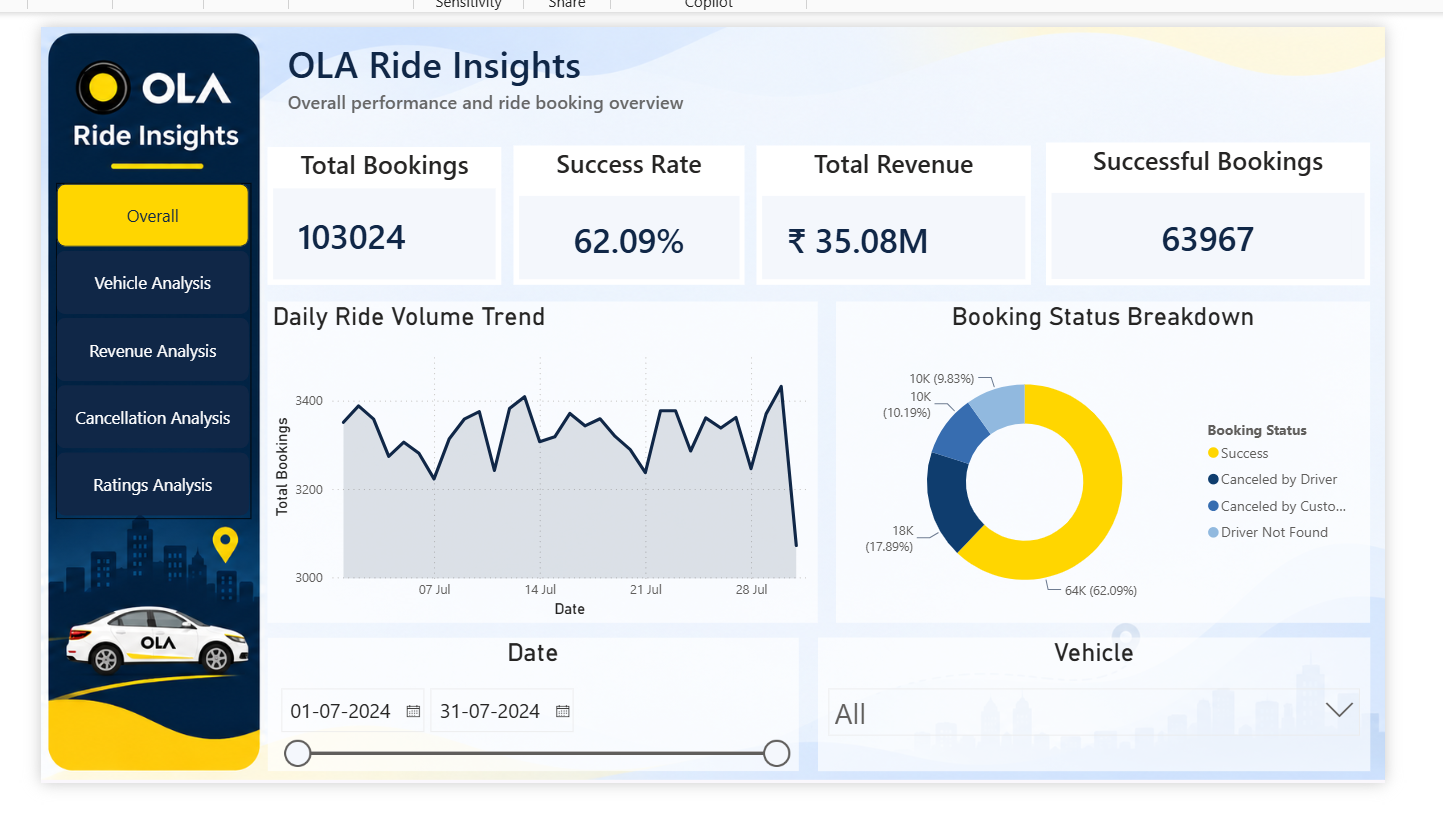

The dashboard page shown, as its layout file describes it:
{"tool":"powerbi","page":{"name":"Overall","canvas":[1280,720],"ordinal":0},"visuals":[{"type":"cardVisual","title":"Total Bookings","fields":{"Data":["ola_ride_insights cleaned_ola_data.Total Bookings"]},"box":[215.7,114.3,222.9,131.4],"z":0},{"type":"cardVisual","title":"Successful Bookings","fields":{"Data":["cleaned_ola_data.Successful Bookings"]},"box":[957.1,110,308.6,135.7],"z":1000},{"type":"cardVisual","title":"Total Revenue","fields":{"Data":["cleaned_ola_data.Total Revenue"]},"box":[681.4,112.9,261.4,132.9],"z":2000},{"type":"cardVisual","title":"Success Rate","fields":{"Data":["cleaned_ola_data.Success Rate"]},"box":[450,112.9,220,132.9],"z":3000},{"type":"lineChart","title":"Daily Ride Volume Trend","fields":{"Y":["cleaned_ola_data.Total Bookings"],"Category":["cleaned_ola_data.Date Only.Variation.Date Hierarchy.Year","cleaned_ola_data.Date Only.Variation.Date Hierarchy.Quarter","cleaned_ola_data.Date Only.Variation.Date Hierarchy.Month","cleaned_ola_data.Date Only.Variation.Date Hierarchy.Day"]},"box":[215.7,261.4,524.3,305.7],"z":4000},{"type":"donutChart","title":"Booking Status Breakdown","fields":{"Category":["cleaned_ola_data.Booking_Status"],"Y":["cleaned_ola_data.Total Bookings"]},"box":[757.1,261.4,508.6,305.7],"z":5000},{"type":"slicer","title":"Date","fields":{"Values":["cleaned_ola_data.Date Only"]},"box":[215.7,581.4,505.7,127.1],"z":6000},{"type":"slicer","title":"Vehicle","fields":{"Values":["cleaned_ola_data.Vehicle_Type"]},"box":[740,581.4,525.7,127.1],"z":7000},{"type":"pageNavigator","box":[14.3,148.6,185.7,320],"z":8000},{"type":"textbox","title":"OLA Ride Insights","box":[230,11.4,1020,78.6],"z":8001}]}

Visuals, with their boxes on the page's 1280x720 design canvas (x1, y1, x2, y2). These are canvas units, not pixel positions in the 1443x840 screenshot, which may show the page scaled, cropped or inside an application window:
"Total Bookings" cardVisual: rect(216, 114, 439, 246)
"Successful Bookings" cardVisual: rect(957, 110, 1266, 246)
"Total Revenue" cardVisual: rect(681, 113, 943, 246)
"Success Rate" cardVisual: rect(450, 113, 670, 246)
"Daily Ride Volume Trend" lineChart: rect(216, 261, 740, 567)
"Booking Status Breakdown" donutChart: rect(757, 261, 1266, 567)
"Date" slicer: rect(216, 581, 721, 708)
"Vehicle" slicer: rect(740, 581, 1266, 708)
pageNavigator: rect(14, 149, 200, 469)
"OLA Ride Insights" textbox: rect(230, 11, 1250, 90)
